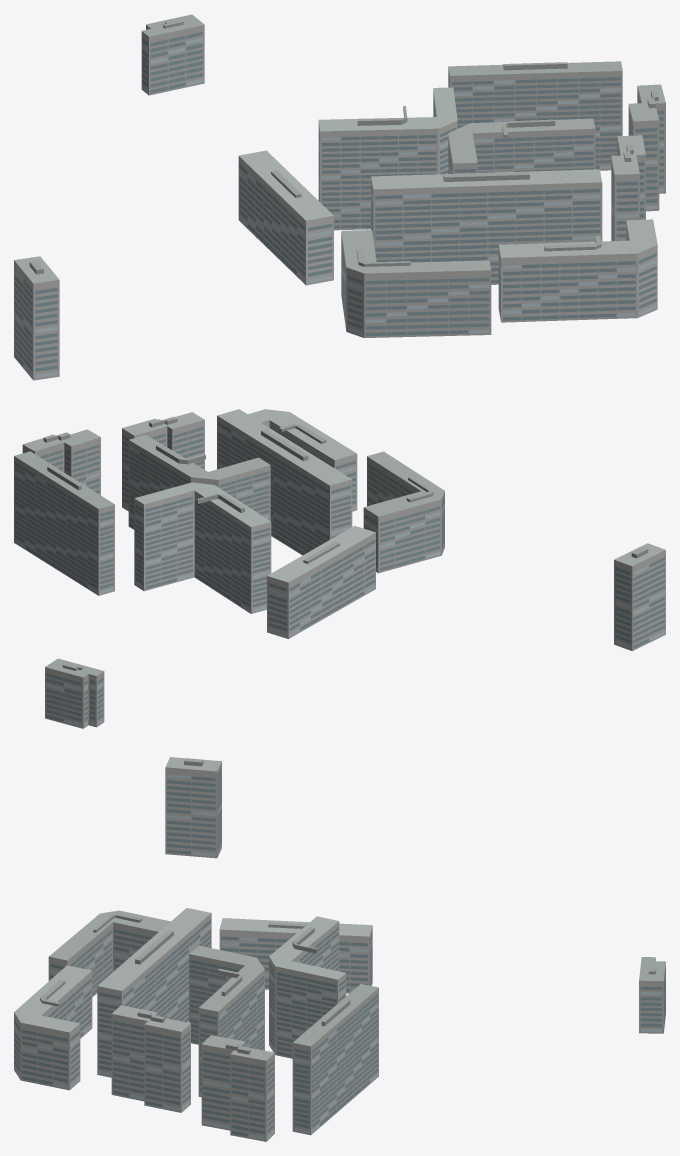
The model's file is apt-a13804206.glb.
The picture shows the model from 3 angles, top to bottom: view 1: azimuth 30°, elevation 25°; view 2: azimuth 150°, elevation 25°; view 3: azimuth 270°, elevation 25°; orthographic projection. The views are drawn at different scales.
Parts seen in each view (by area): view 1: apt-a13804206; view 2: apt-a13804206; view 3: apt-a13804206.
Boxes of the visible parts, bbox=[...] form: apt-a13804206: bbox=[14, 14, 665, 380]; apt-a13804206: bbox=[14, 409, 665, 728]; apt-a13804206: bbox=[14, 757, 665, 1141].
Bounding box in the file's own units: 336 × 49 × 311.
